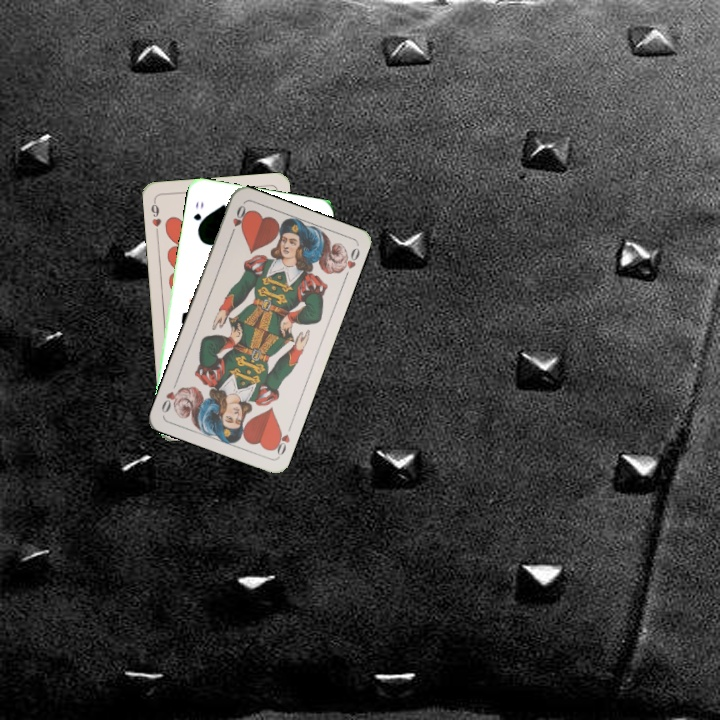GO: (189, 198, 206, 234)
H9: (147, 196, 164, 237)
HO: (226, 201, 249, 240), (268, 425, 293, 458)
